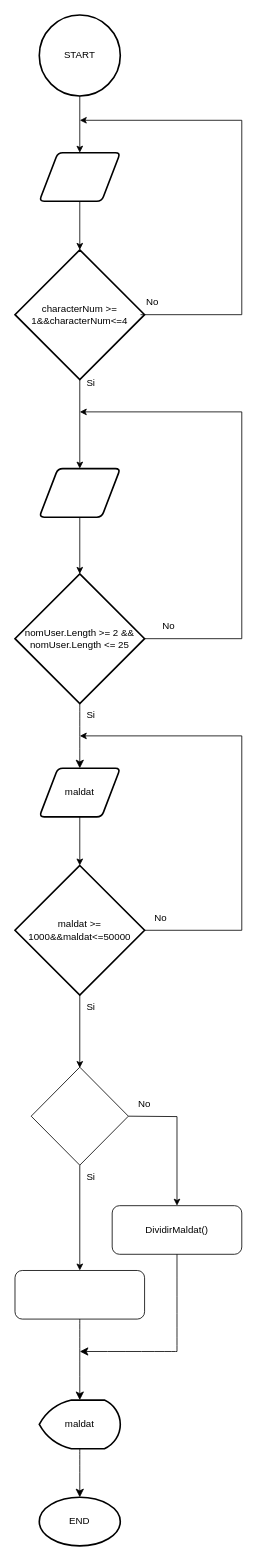
Some shapes in this 262 by 1560 pixel diagram are drawn without their labels. The centre of each missing label's shape, as x and y in pixels:
characterNum: the point at 79,176
ConvertirAPolsMagic(): the point at 79,1294
nomUser: the point at 79,492
nomUser conte 2 o més vocals: the point at 79,1115
